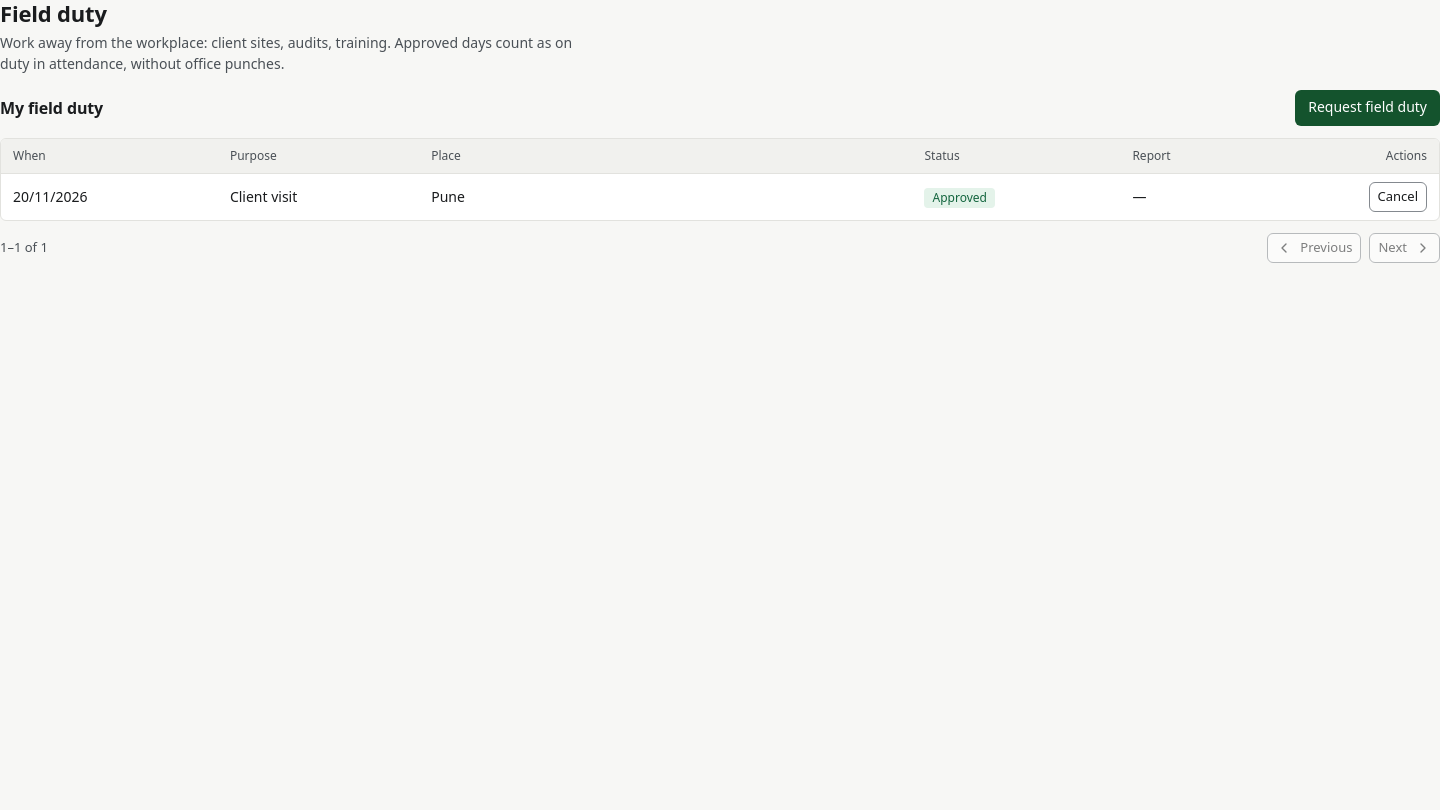
my field duty › cancelling an approved future duty needs a reason and posts it
Click the button "Cancel" at (1398, 196), box [1368, 182, 1427, 212]
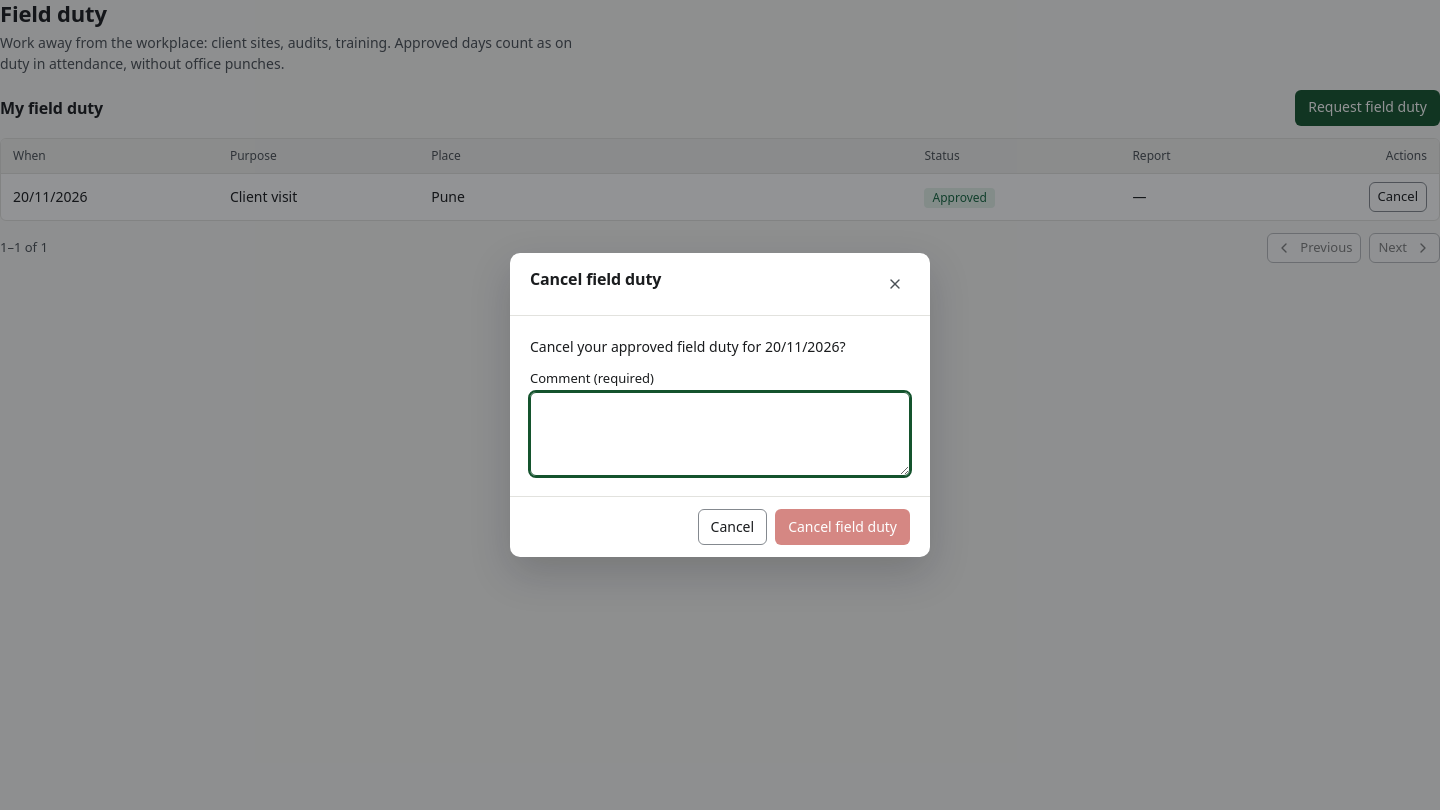
Now the button "Cancel field duty" is disabled, box [775, 509, 910, 545]
Type "Plans changed" into the text box at (720, 434), box [530, 392, 910, 476]
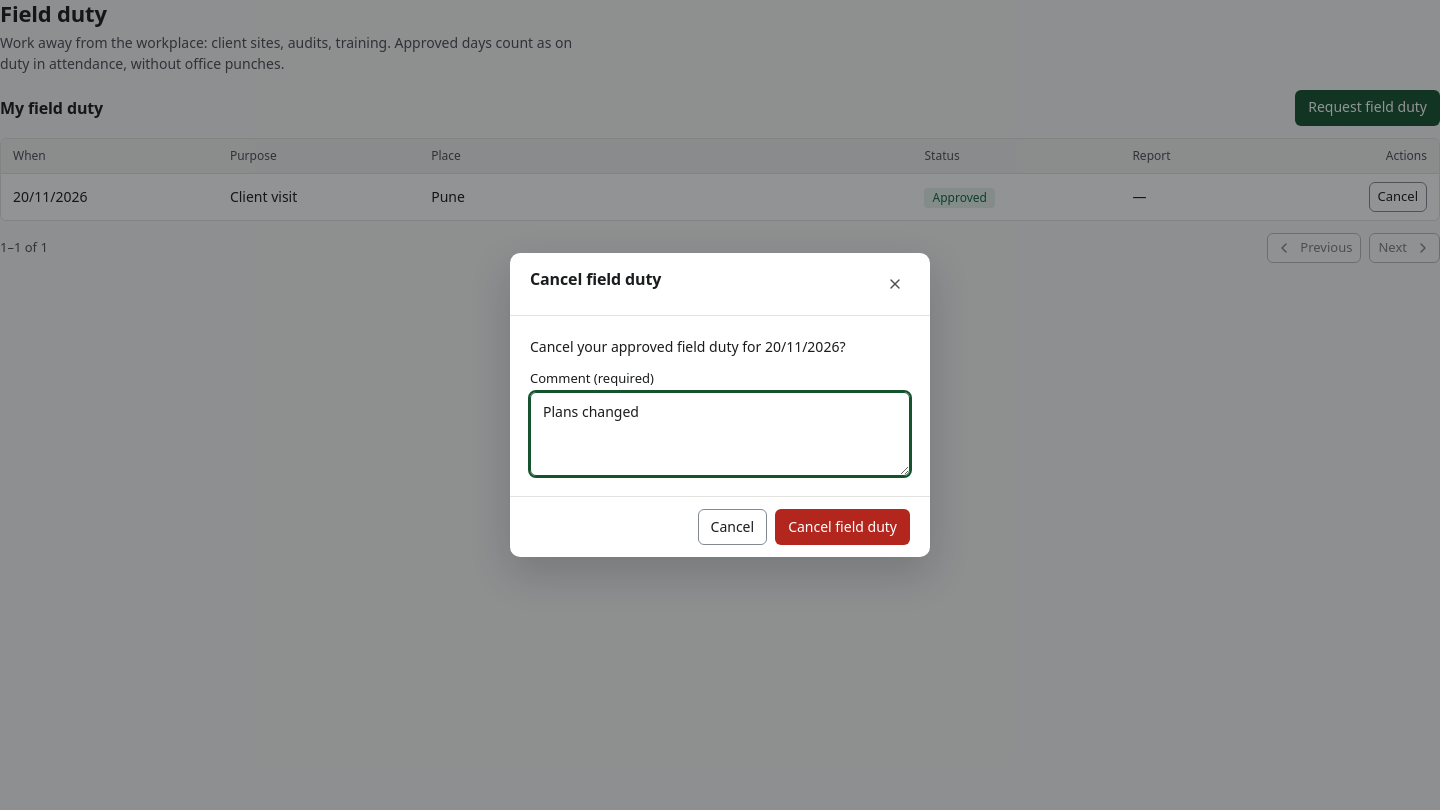
Click the button "Cancel field duty" at (843, 527), box [775, 509, 910, 545]
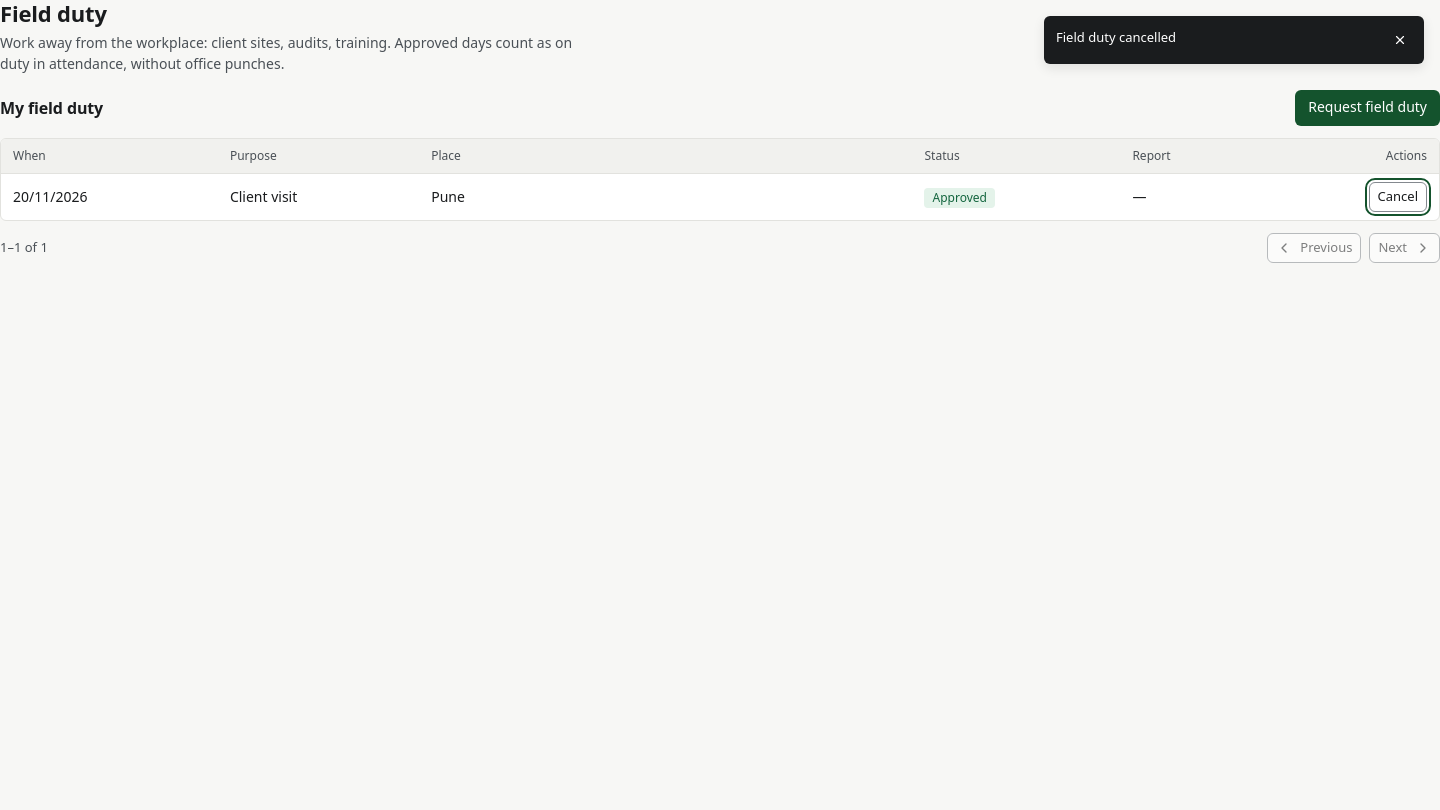
Now the text "Field duty cancelled" is shown, box [1056, 28, 1176, 46]
